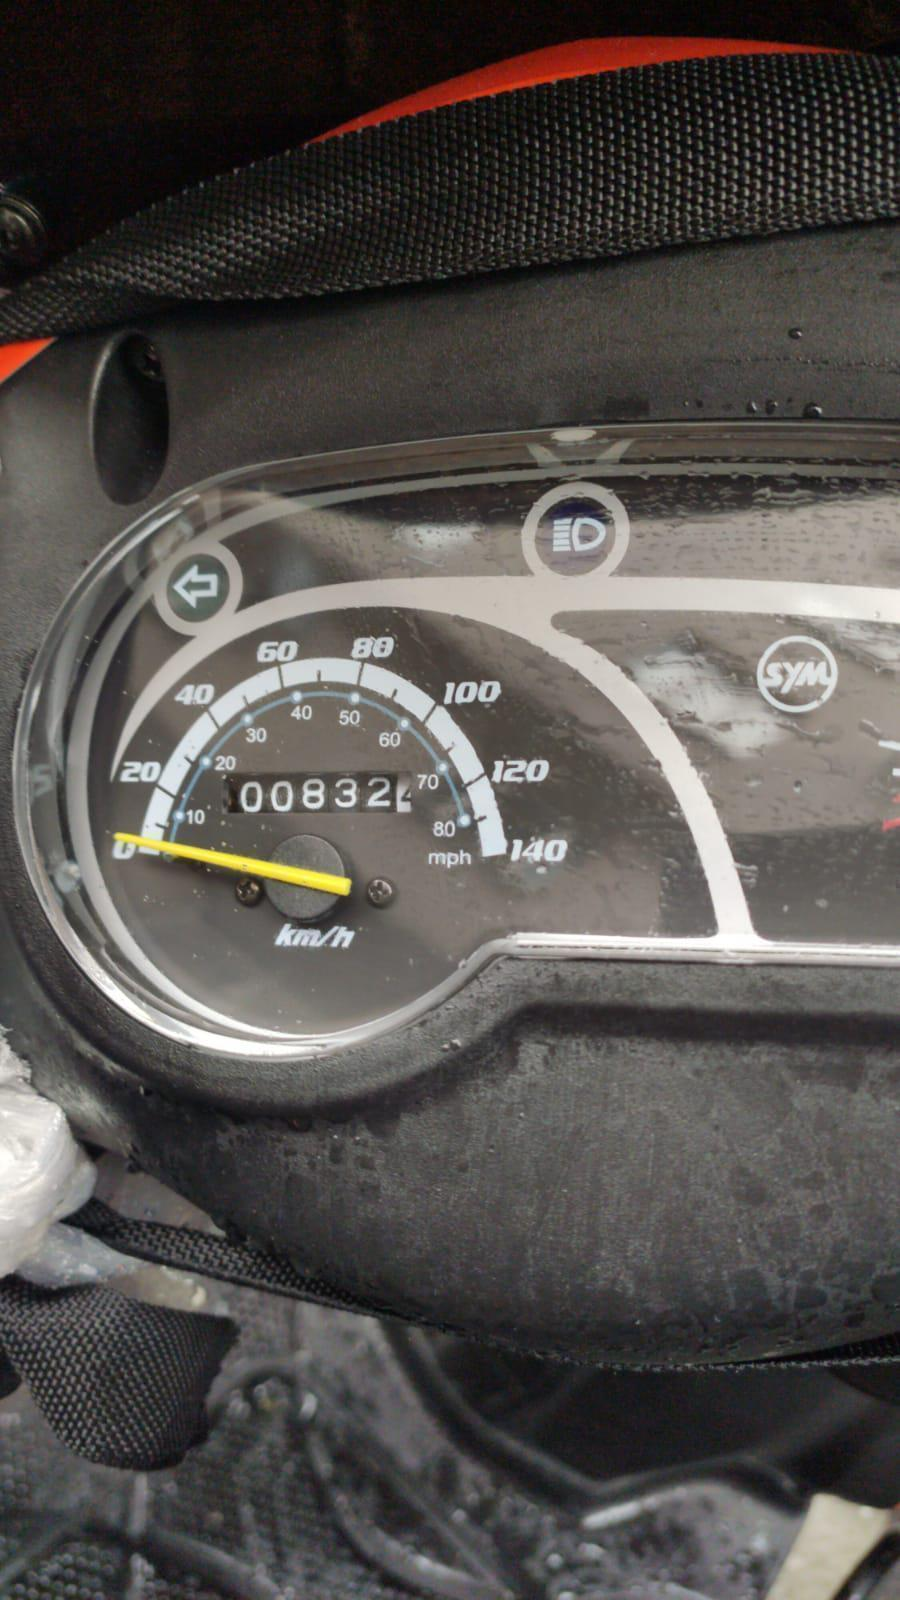0: (269, 779, 293, 813), (238, 780, 263, 812)
2: (365, 775, 392, 807)
3: (332, 777, 358, 808)
4: (400, 781, 416, 807)
8: (301, 777, 326, 810)
odometer: (219, 768, 416, 816)
